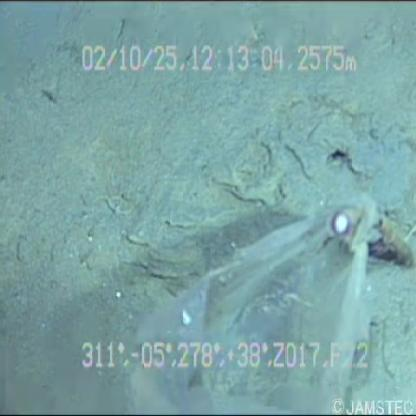Rác: (108, 167, 381, 416)
